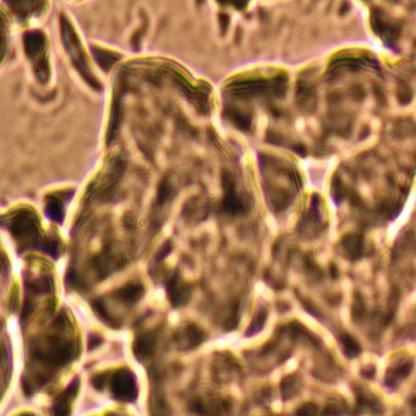Normal: (0, 151, 416, 416), (107, 80, 416, 415)
